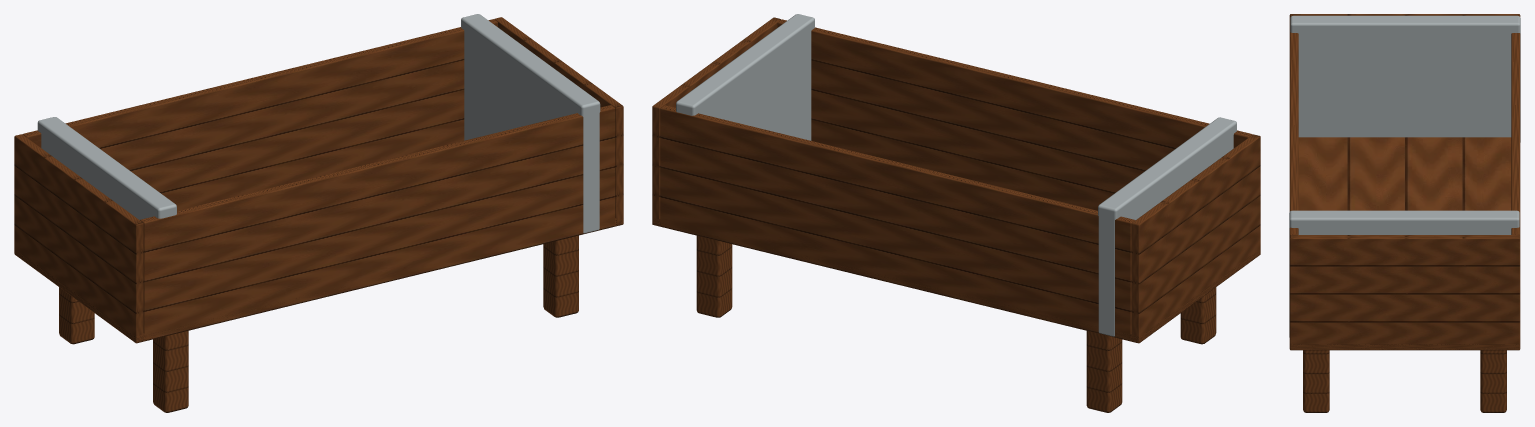
Rendered from creature-husbandry-and-transport-deep-feed-trough-7f09d864__23994.glb.
The picture shows the model from 3 angles, left to right: view 1: azimuth 30°, elevation 25°; view 2: azimuth 150°, elevation 25°; view 3: azimuth 270°, elevation 25°; orthographic projection. The views are drawn at different scales.
Parts seen in each view (by area): view 1: deep-feed-trough; view 2: deep-feed-trough; view 3: deep-feed-trough.
Boxes of the visible parts, x1,y1,x2,y2 form: deep-feed-trough: [14, 14, 623, 412]; deep-feed-trough: [652, 14, 1260, 412]; deep-feed-trough: [1289, 14, 1520, 412].
Bounding box in the file's own units: 1.5 × 0.6288 × 0.6523.
2 materials, 1 textured.
